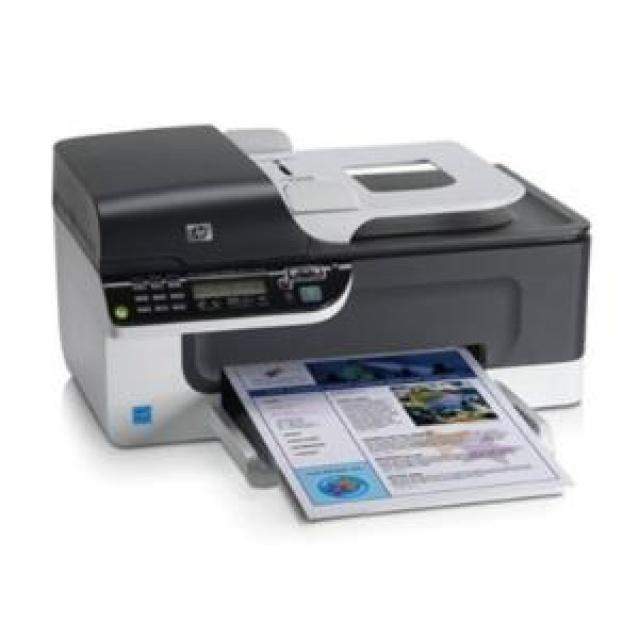Printer: (51, 123, 592, 524)
